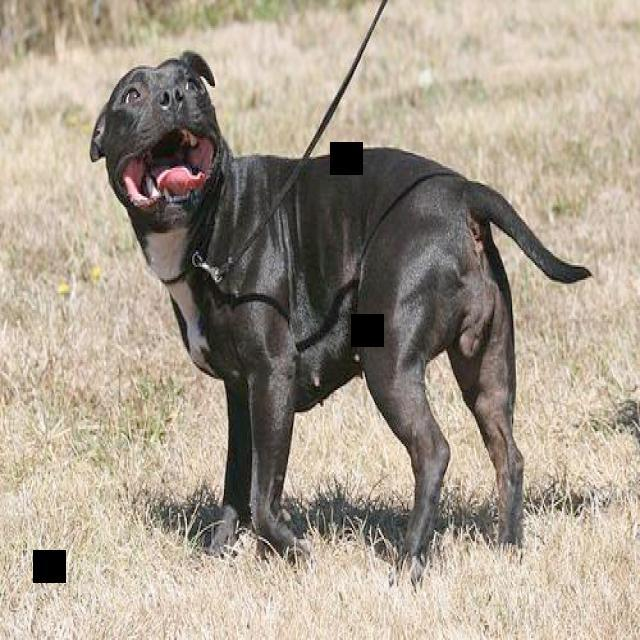adult_dog: (92, 53, 594, 597)
